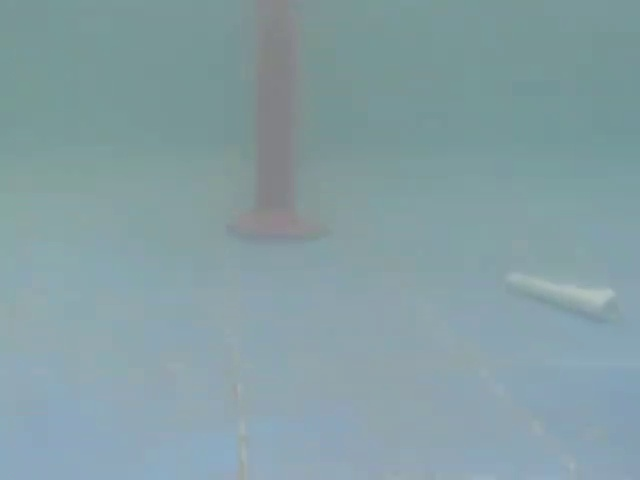flare: (226, 0, 340, 253)
